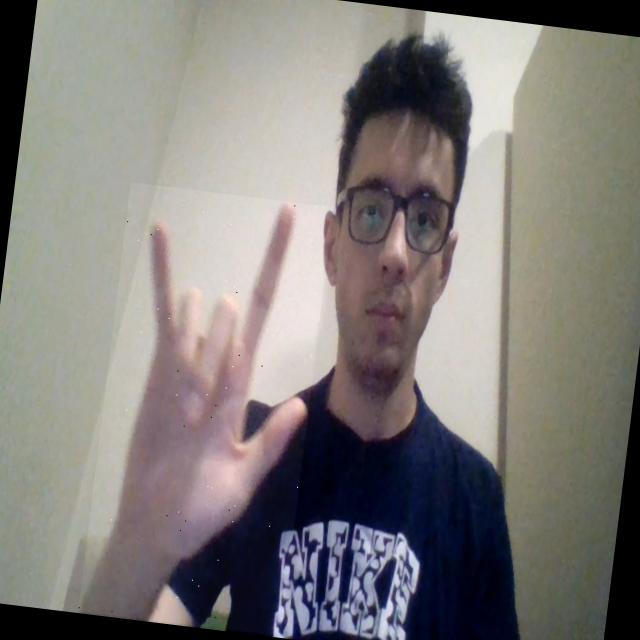iloveyou: (78, 182, 333, 635)
